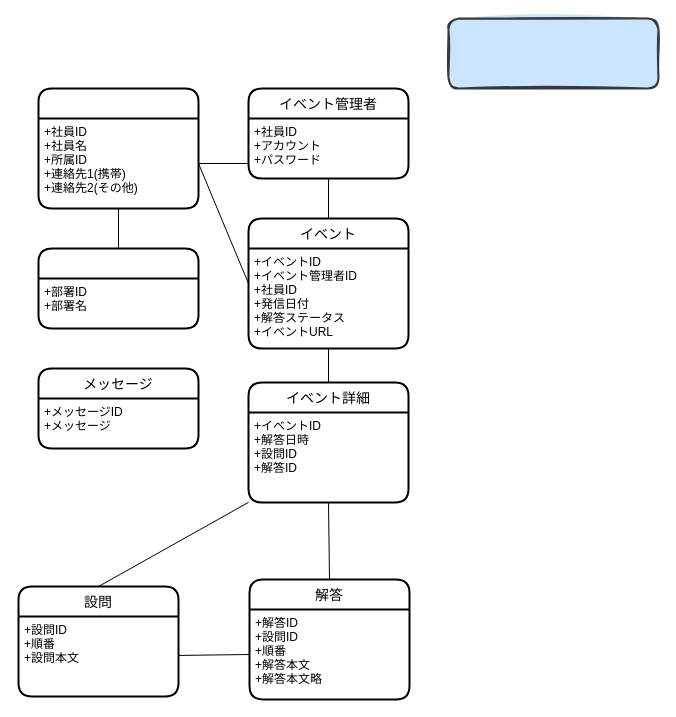
This 676x717 diagram has some shape labels left out. Here are the shapes that lost their labels. From the top down, the box of each, then its label:
(447, 17, 659, 89): 社員、部署、イベント管理者テーブルはohanaの機能が利用出来れば不要
(37, 87, 199, 209): 社員
(37, 247, 199, 329): 部署
